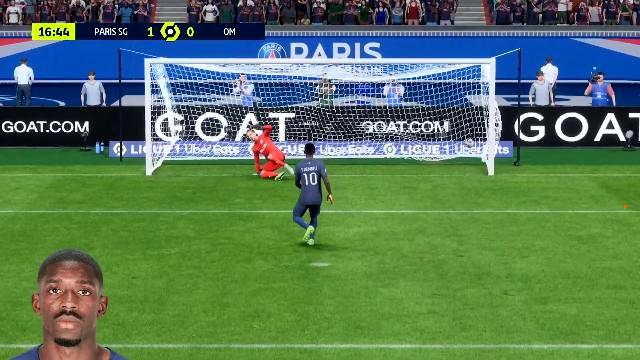bottom-left: (154, 124, 262, 176)
bottom-right: (374, 126, 488, 176)
center-down: (264, 124, 374, 176)
center-up: (266, 65, 372, 123)
football: (462, 136, 478, 148)
goalkeeper: (246, 127, 298, 180)
player: (290, 141, 338, 250)
top-left: (155, 65, 263, 123)
top-right: (375, 66, 489, 124)
